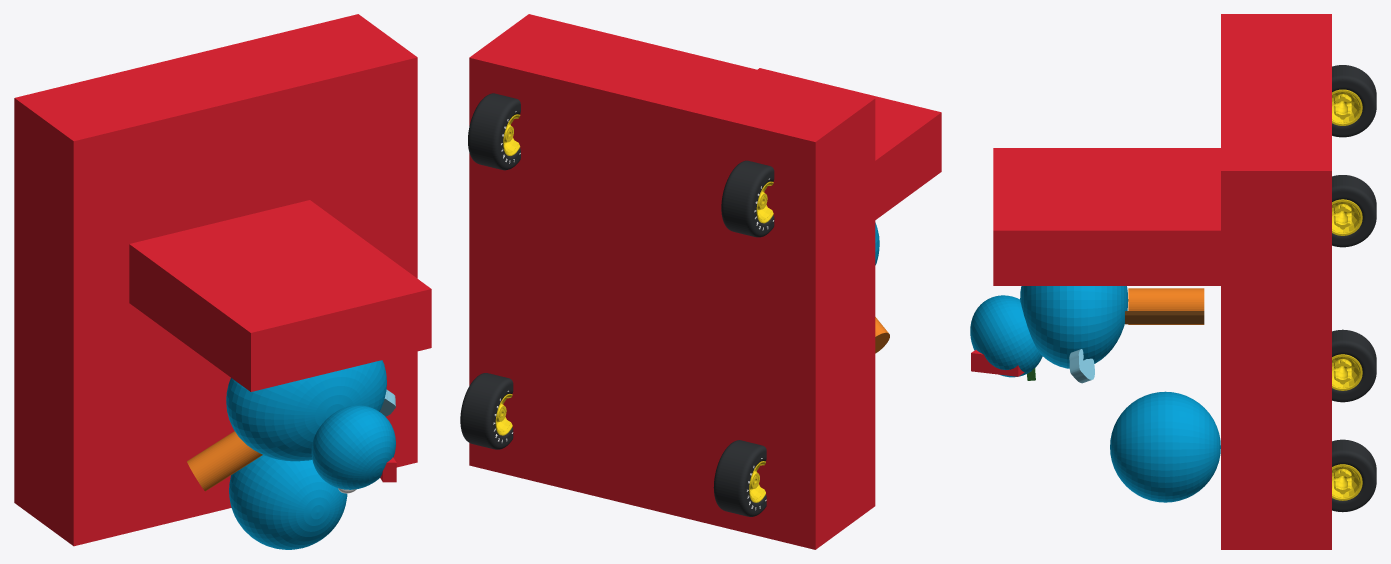
Rendered from tinker.obj.
3 views of the same model, side by side, from view 1: azimuth 30°, elevation 25°; view 2: azimuth 150°, elevation 25°; view 3: azimuth 270°, elevation 25° (orthographic). The views are drawn at different scales.
Parts seen in each view (by area): view 1: obj_13, obj_15, obj_2, obj_14, obj_5, obj_3; view 2: obj_13, obj_15, obj_11, obj_10, obj_12, obj_9; view 3: obj_13, obj_15, obj_14, obj_2, obj_5, obj_10, obj_12, obj_11, obj_9, obj_1, obj_0, obj_4 (+1 smaller).
Part boxes in pixels (x1,y1,x2,y2): obj_13: [14, 14, 417, 546]; obj_15: [129, 200, 431, 391]; obj_2: [226, 360, 386, 461]; obj_14: [229, 455, 347, 549]; obj_5: [311, 405, 395, 489]; obj_3: [187, 431, 262, 491]; obj_13: [469, 14, 875, 549]; obj_15: [757, 68, 941, 219]; obj_11: [460, 373, 513, 449]; obj_10: [721, 160, 774, 237]; obj_12: [713, 440, 766, 516]; obj_9: [468, 93, 520, 170]; obj_13: [1221, 14, 1331, 549]; obj_15: [993, 148, 1220, 285]; obj_14: [1110, 391, 1220, 502]; obj_2: [1020, 286, 1128, 368]; obj_5: [970, 295, 1042, 377]; obj_10: [1332, 65, 1376, 137]; obj_12: [1332, 329, 1376, 402]; obj_11: [1332, 439, 1376, 512]; obj_9: [1332, 175, 1376, 247]; obj_1: [1128, 288, 1204, 324]; obj_0: [1125, 311, 1204, 324]; obj_4: [1069, 349, 1094, 383].
Bounding box in the file's own units: 66.98 × 79.37 × 73.3.
